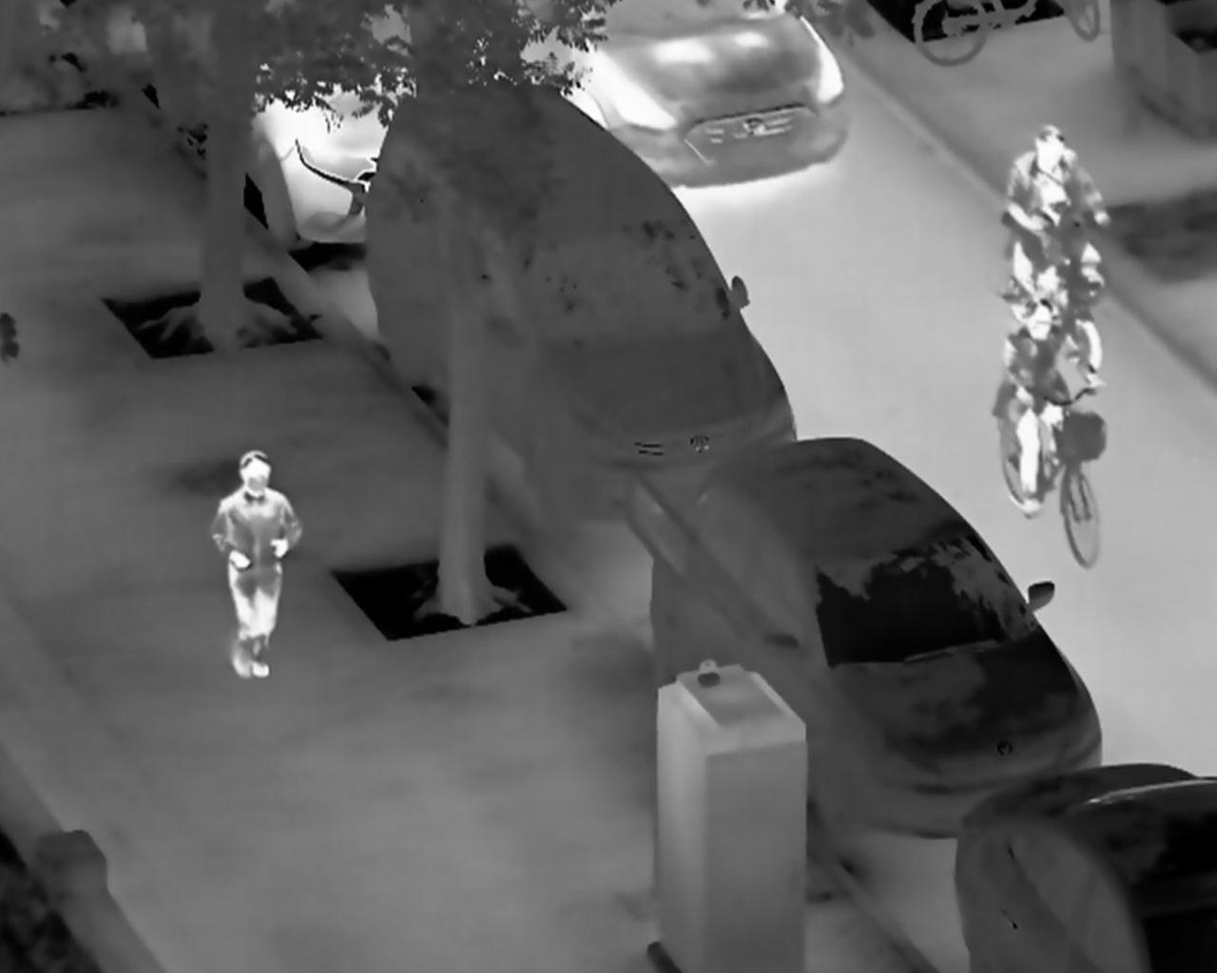person: (1004, 123, 1111, 332), (206, 450, 301, 683), (1002, 296, 1079, 517)
